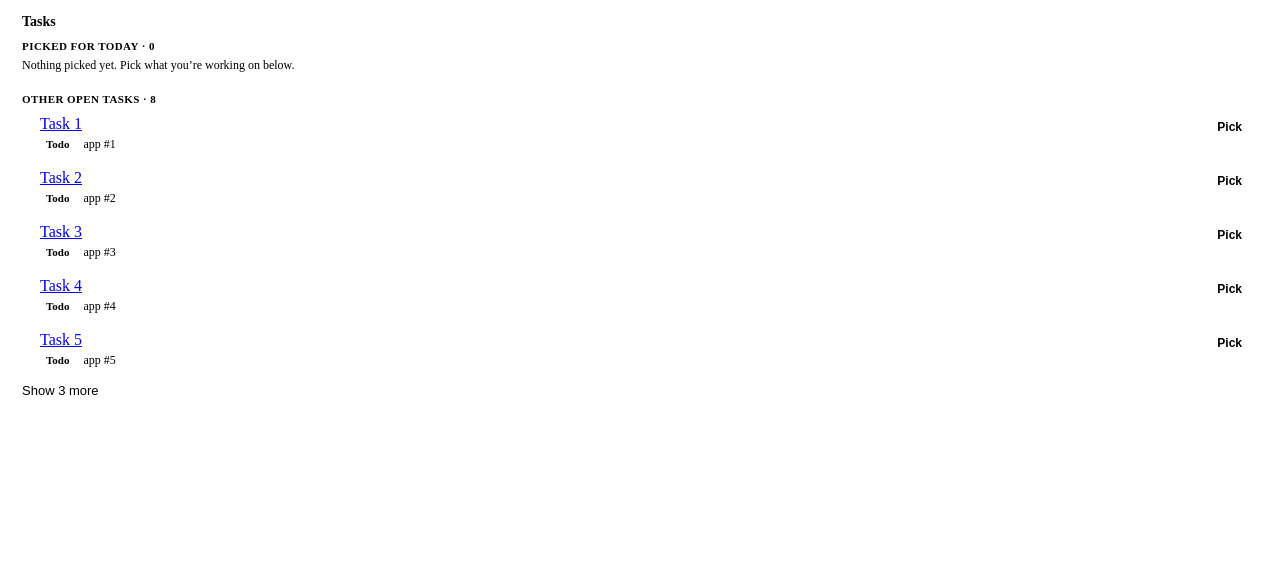
it: show more
Check: the text "Other open tasks · 8" is shown, box [22,93,156,105]
Check: the number of list items is 5, box [16,107,1260,161]; [16,161,1260,215]; [16,215,1260,269]; [16,269,1260,323]; [16,323,1260,377]
Click the button "Show 3 more" at [60, 390], box [22,383,99,398]
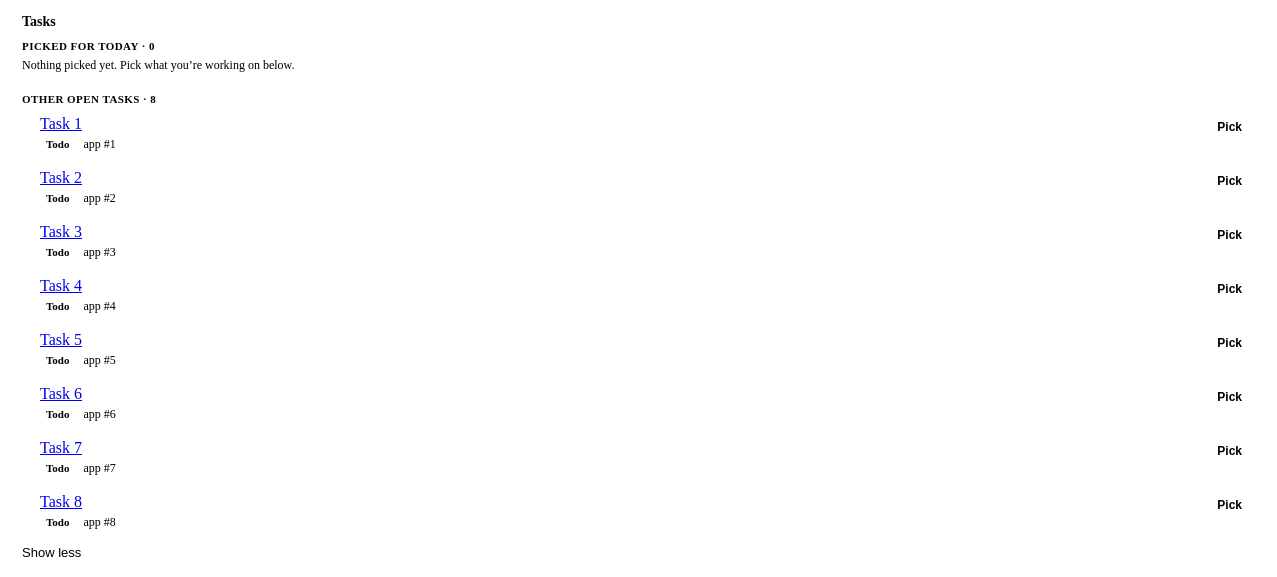
Check: the number of list items is 8
Click the button "Show less" at [52, 552], box [22,545,81,560]
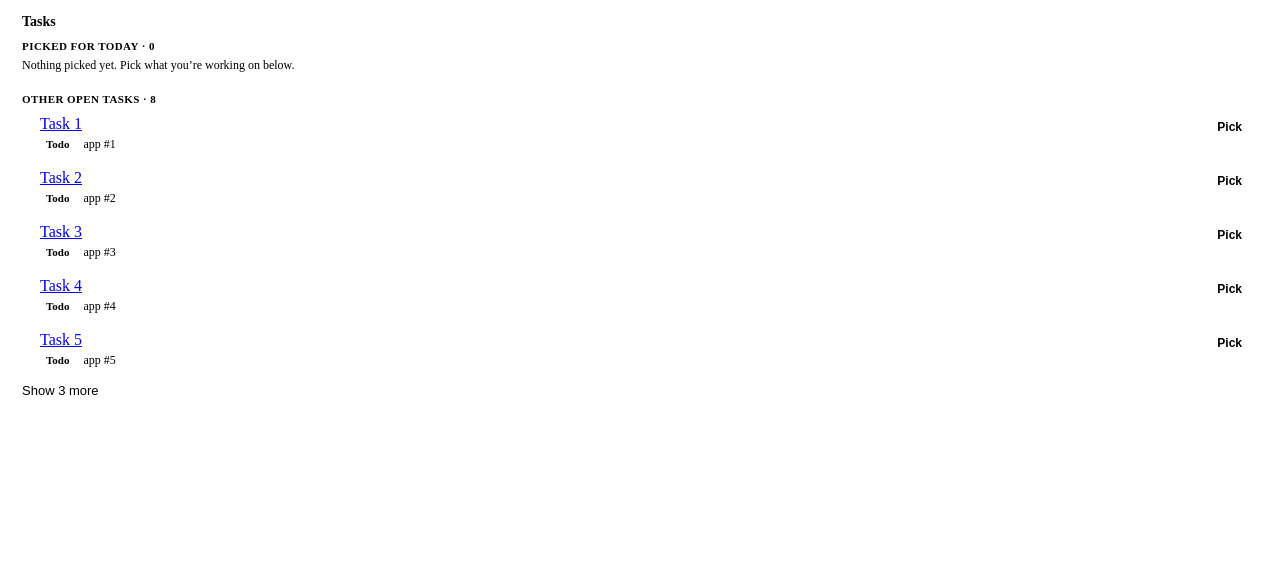
Check: the number of list items is 5, box [16,107,1260,161]; [16,161,1260,215]; [16,215,1260,269]; [16,269,1260,323]; [16,323,1260,377]
